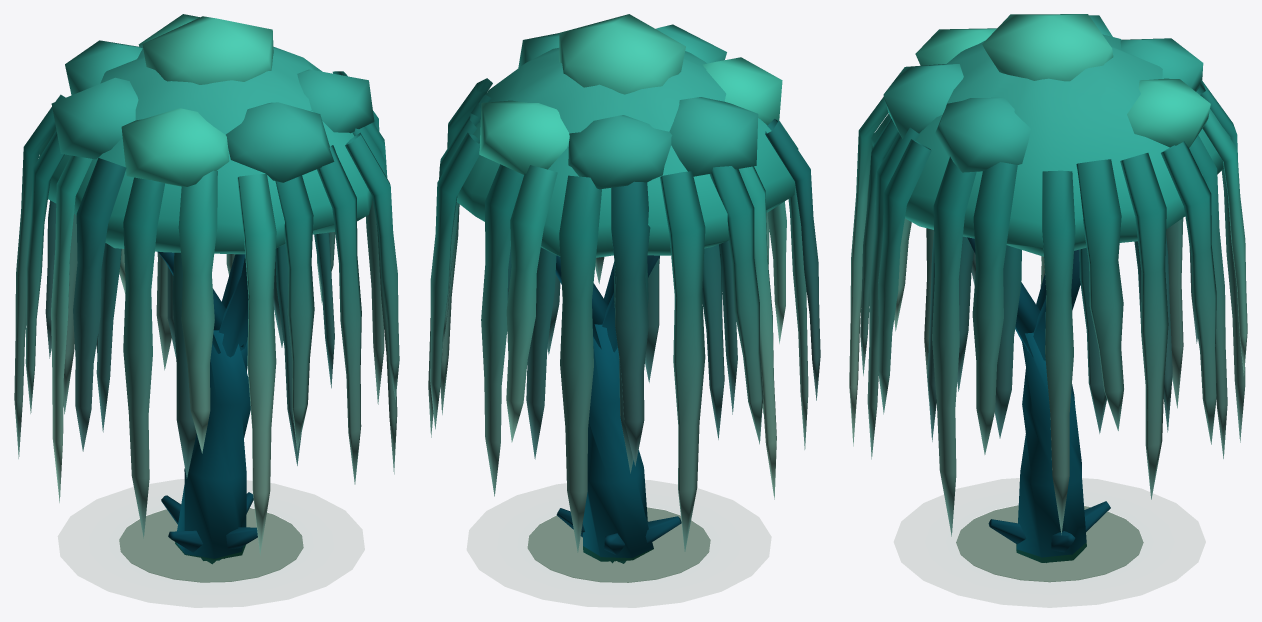
Rendered from willow.glb.
3 views of the same model, side by side, from view 1: azimuth 30°, elevation 25°; view 2: azimuth 150°, elevation 25°; view 3: azimuth 270°, elevation 25° (orthographic).
Parts seen in each view (by area): view 1: willow; view 2: willow; view 3: willow.
Part boxes in pixels (x1=…): willow: x1=14, y1=14, x2=399, y2=582; willow: x1=428, y1=14, x2=820, y2=582; willow: x1=849, y1=14, x2=1247, y2=582.
Bounding box in the file's own units: 2.69 × 4.05 × 2.68.
